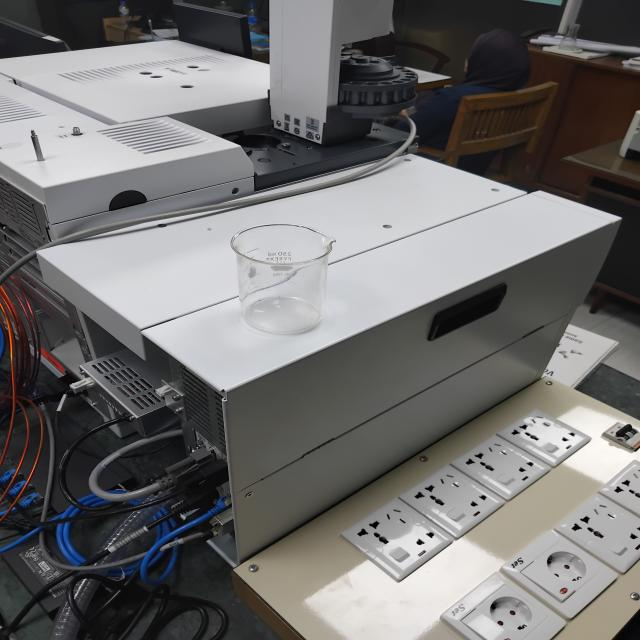Beaker: (190, 191, 360, 349)
